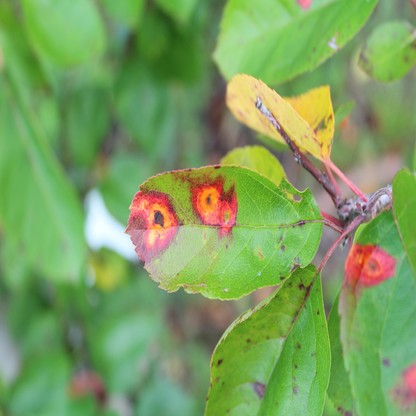rust: (123, 191, 181, 263), (189, 176, 238, 238), (346, 244, 396, 290), (389, 361, 416, 412), (297, 0, 313, 9)
